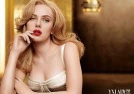female: (16, 2, 67, 51)
